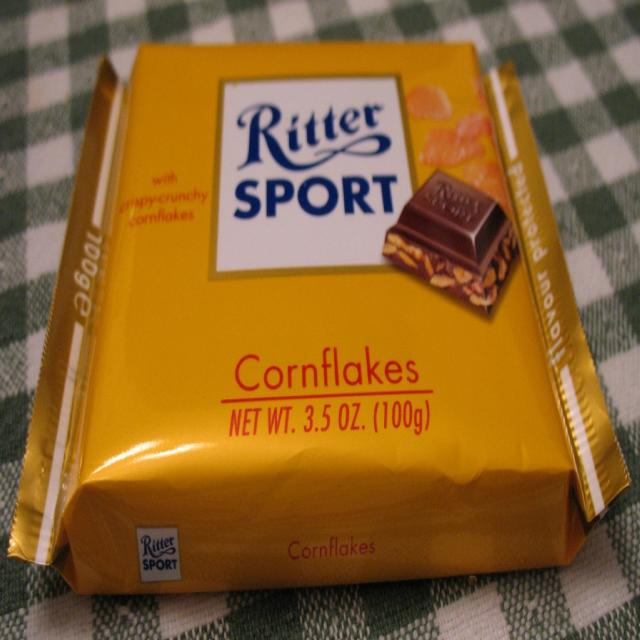rittersport: (215, 73, 426, 276)
